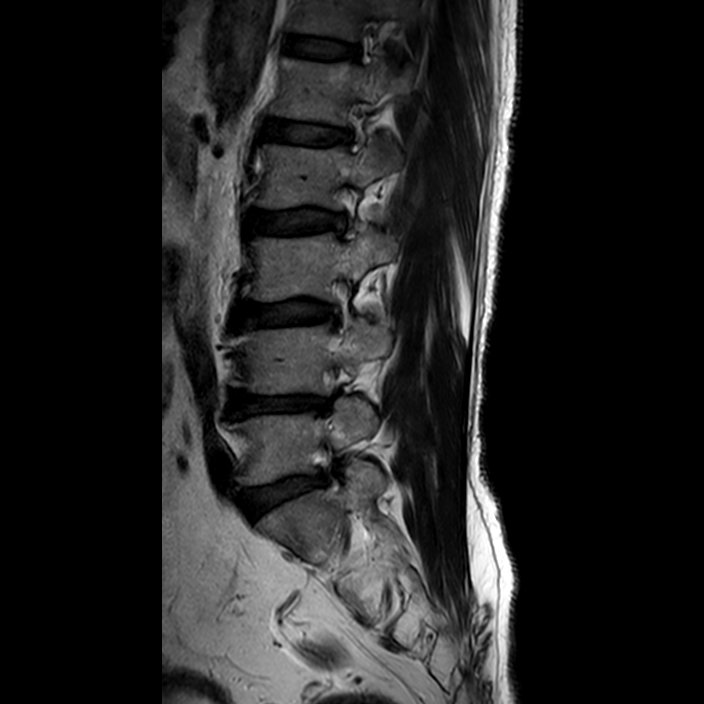LFS1: (314, 264, 366, 344)
